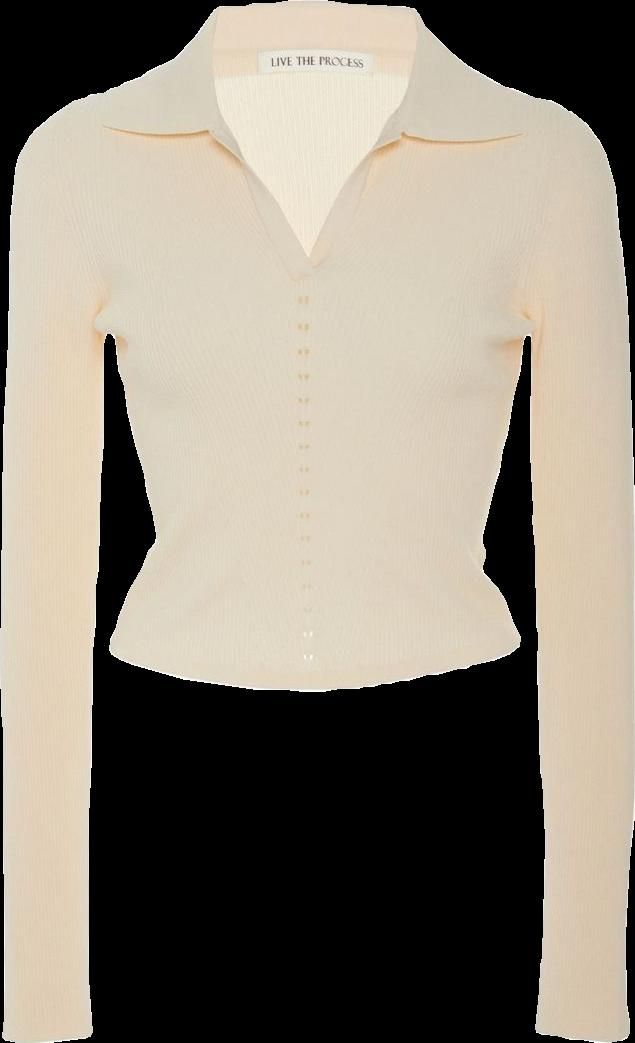Bodice: (53, 0, 560, 690)
Neckline: (209, 5, 422, 269)
Sleeve: (0, 112, 115, 1042), (528, 103, 633, 1041)
Sleeveline: (48, 112, 119, 344), (520, 103, 568, 332)
Waistline: (108, 634, 528, 693)
